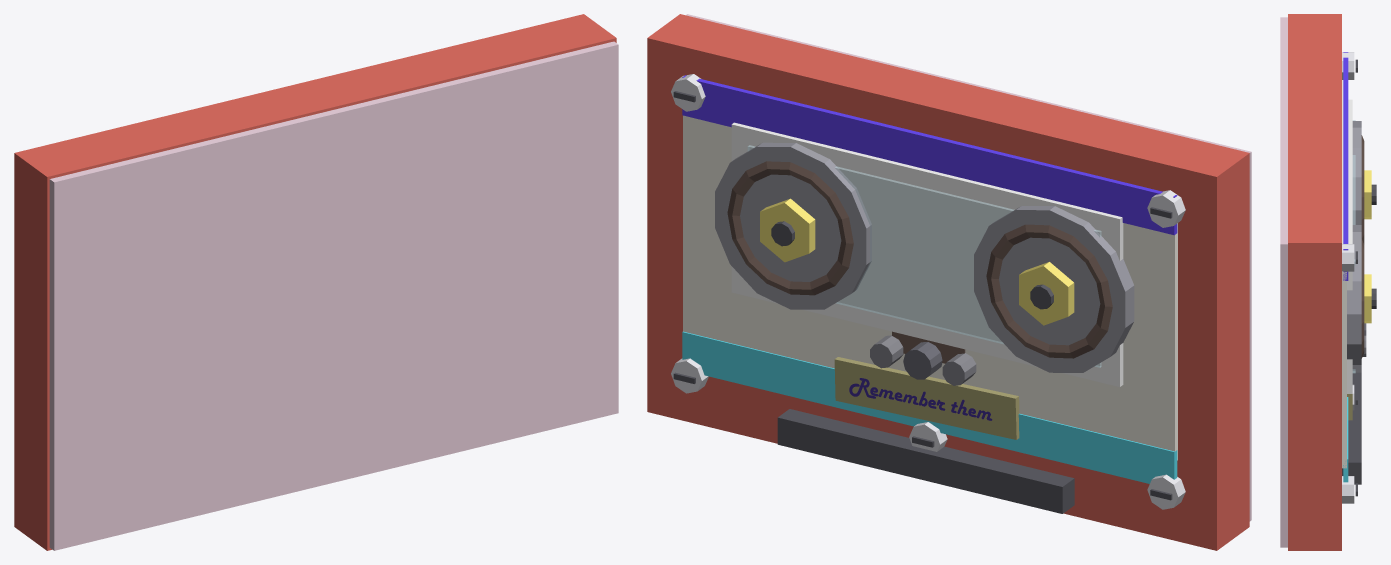
Rendered from cassetteRememberThem.glb.
3 views of the same model, side by side, from view 1: azimuth 30°, elevation 25°; view 2: azimuth 150°, elevation 25°; view 3: azimuth 270°, elevation 25° (orthographic). The views are drawn at different scales.
Parts seen in each view (by area): view 1: ShellBack, Shell; view 2: Shell, Label, WindowFrame, WindowGlass, StripeTop, Reel_L, Reel_R, StripeBot, TapeOpening, Plane, Tape_L, Tape_R (+11 smaller); view 3: Shell, ShellBack, Reel_R, Label, TapeOpening, StripeTop, WindowFrame, Reel_L, Tape_R, Tape_L, Hub_L, Hub_R (+5 smaller).
Part boxes in pixels (bbox=[...]): ShellBack: bbox=[49, 41, 618, 550]; Shell: bbox=[14, 14, 616, 550]; Shell: bbox=[647, 14, 1249, 550]; Label: bbox=[683, 115, 1177, 460]; WindowFrame: bbox=[731, 122, 1123, 386]; WindowGlass: bbox=[747, 145, 1101, 367]; StripeTop: bbox=[682, 75, 1177, 235]; Reel_L: bbox=[974, 206, 1134, 372]; Reel_R: bbox=[715, 142, 871, 309]; StripeBot: bbox=[682, 331, 1177, 483]; TapeOpening: bbox=[777, 409, 1074, 513]; Plane: bbox=[834, 357, 1019, 439]; Tape_L: bbox=[986, 224, 1112, 358]; Tape_R: bbox=[727, 161, 853, 295]; Shell: bbox=[1288, 14, 1341, 550]; ShellBack: bbox=[1280, 17, 1287, 547]; Reel_R: bbox=[1347, 225, 1361, 372]; Label: bbox=[1342, 80, 1346, 468]; TapeOpening: bbox=[1342, 372, 1361, 484]; StripeTop: bbox=[1343, 52, 1348, 280]; WindowFrame: bbox=[1347, 99, 1352, 393]; Reel_L: bbox=[1352, 121, 1361, 224]; Tape_R: bbox=[1361, 239, 1364, 358]; Tape_L: bbox=[1361, 135, 1364, 244]; Hub_L: bbox=[1364, 170, 1371, 219]; Hub_R: bbox=[1364, 274, 1371, 323].
Size of the model in its own units: 2.2 by 1.38 by 0.39.
